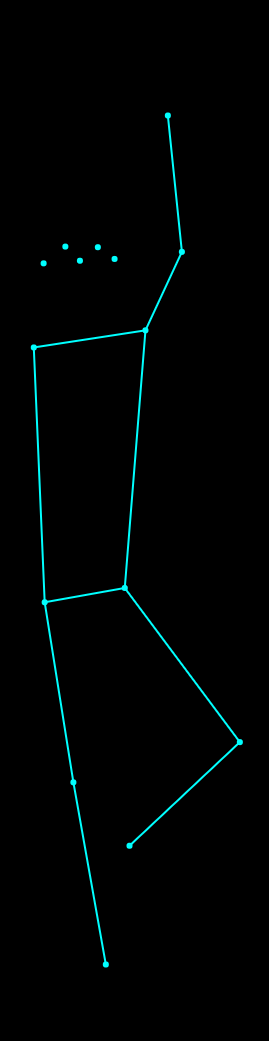tree: (1, 102, 246, 970)
